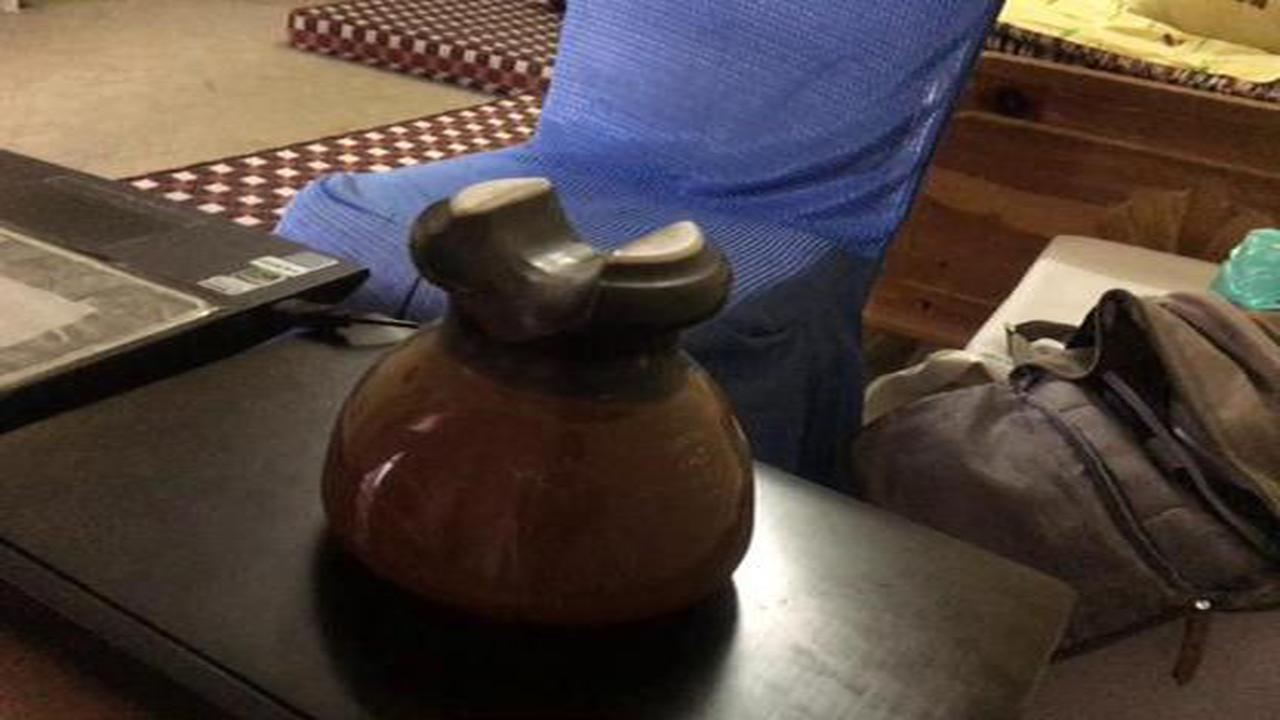insulator_pin: (317, 163, 767, 636)
